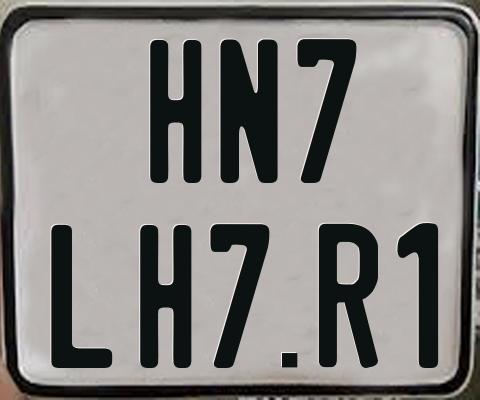1: (395, 222, 437, 368)
7: (297, 37, 359, 187), (207, 222, 269, 370)
H: (150, 40, 208, 188), (140, 224, 197, 369)
L: (49, 223, 114, 367)
N: (217, 38, 275, 182)
R: (316, 222, 377, 369)
